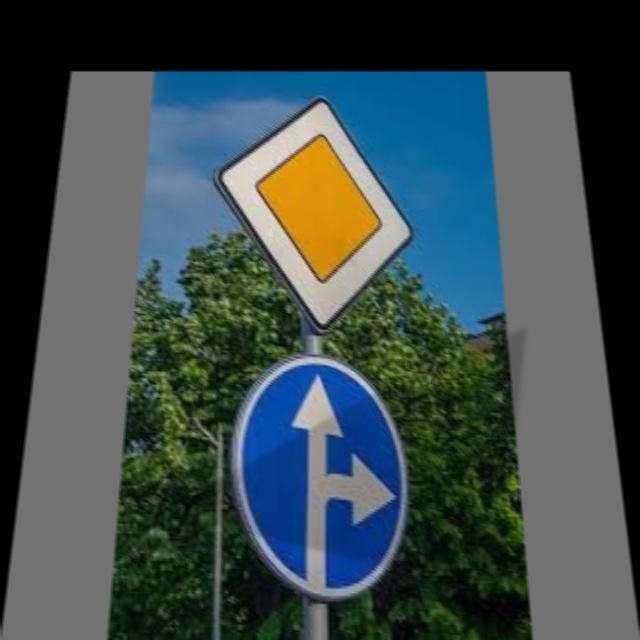Compulsory_Ahead_or_Turn_Right: (230, 351, 412, 596)
